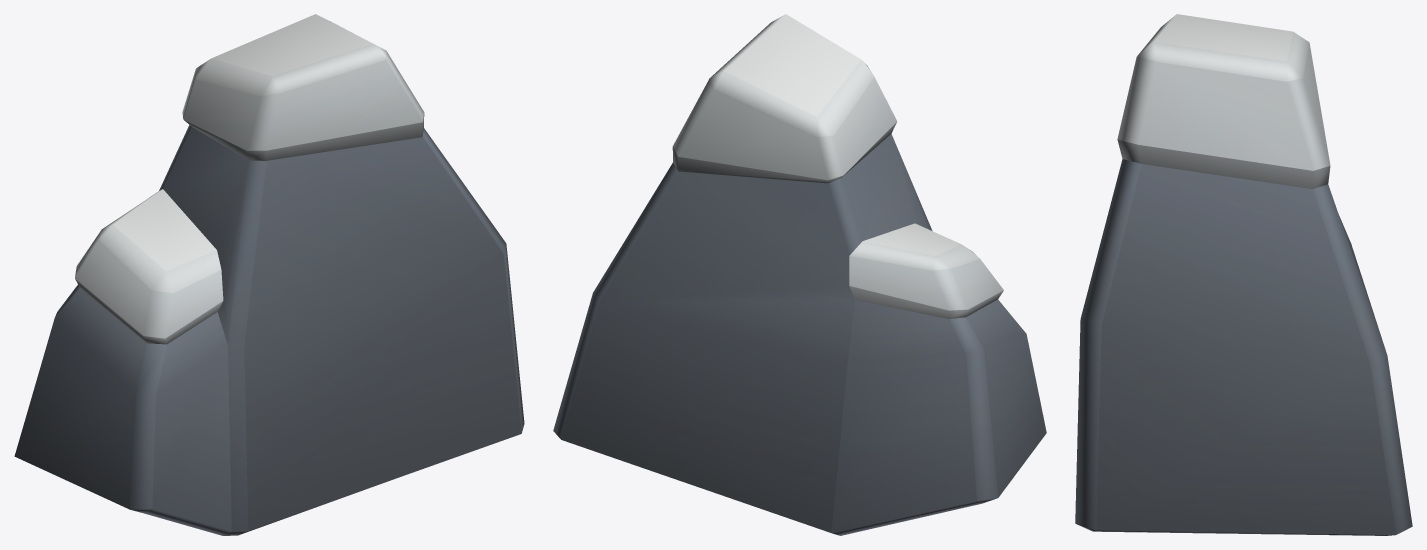
File: rock_snow_024.fbx
3 views of the same model, side by side, from view 1: azimuth 30°, elevation 25°; view 2: azimuth 150°, elevation 25°; view 3: azimuth 270°, elevation 25° (orthographic). The views are drawn at different scales.
Parts seen in each view (by area): view 1: rock_snow_024; view 2: rock_snow_024; view 3: rock_snow_024.
Part boxes in pixels (x1,y1,x2,y2): rock_snow_024: (14,14,524,535); rock_snow_024: (553,14,1046,535); rock_snow_024: (1075,14,1412,535).
Bounding box in the file's own units: 256 × 254 × 163.
